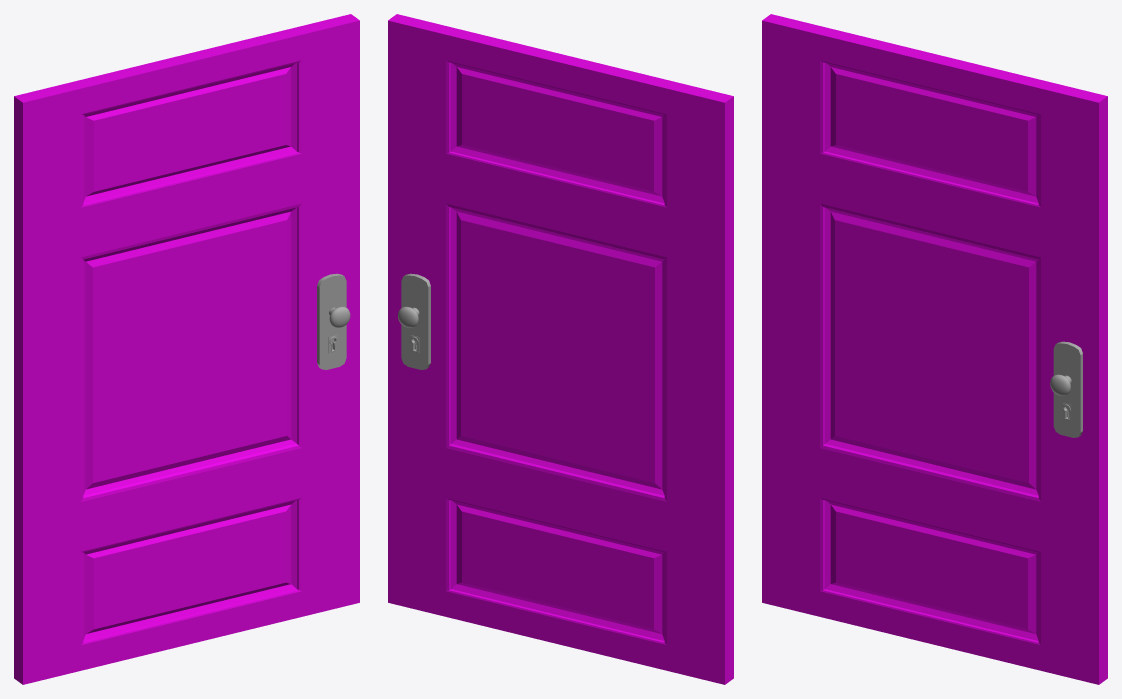
File: Door_A.fbx
The picture shows the model from 3 angles, left to right: view 1: azimuth 30°, elevation 25°; view 2: azimuth 150°, elevation 25°; view 3: azimuth 330°, elevation 25°; orthographic projection.
Parts seen in each view (by area): view 1: Door, DoorLock; view 2: Door, DoorLock1; view 3: Door, DoorLock.
Part boxes in pixels (left/top/right/bottom): Door: left=14, top=14, right=359, bottom=684; DoorLock: left=317, top=273, right=346, bottom=369; Door: left=388, top=14, right=733, bottom=684; DoorLock1: left=401, top=273, right=430, bottom=369; Door: left=762, top=14, right=1107, bottom=684; DoorLock: left=1053, top=341, right=1082, bottom=437.
Bounding box in the file's own units: 1.3 × 2.15 × 0.2213.
